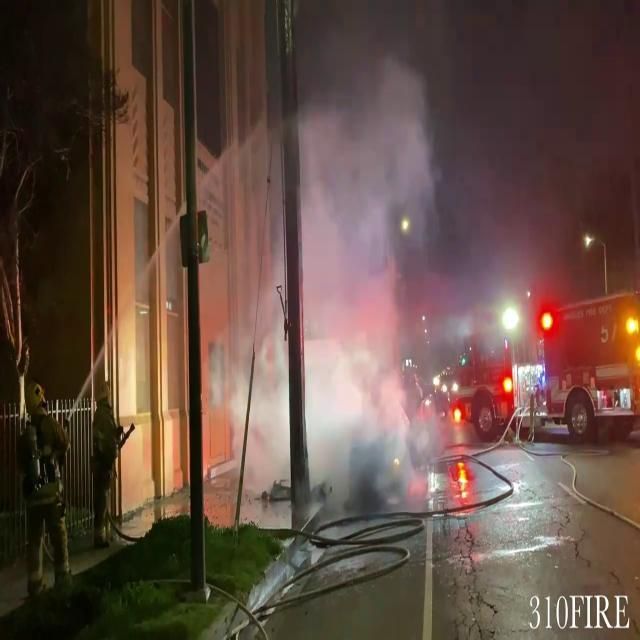Smoke: (220, 6, 436, 500)
